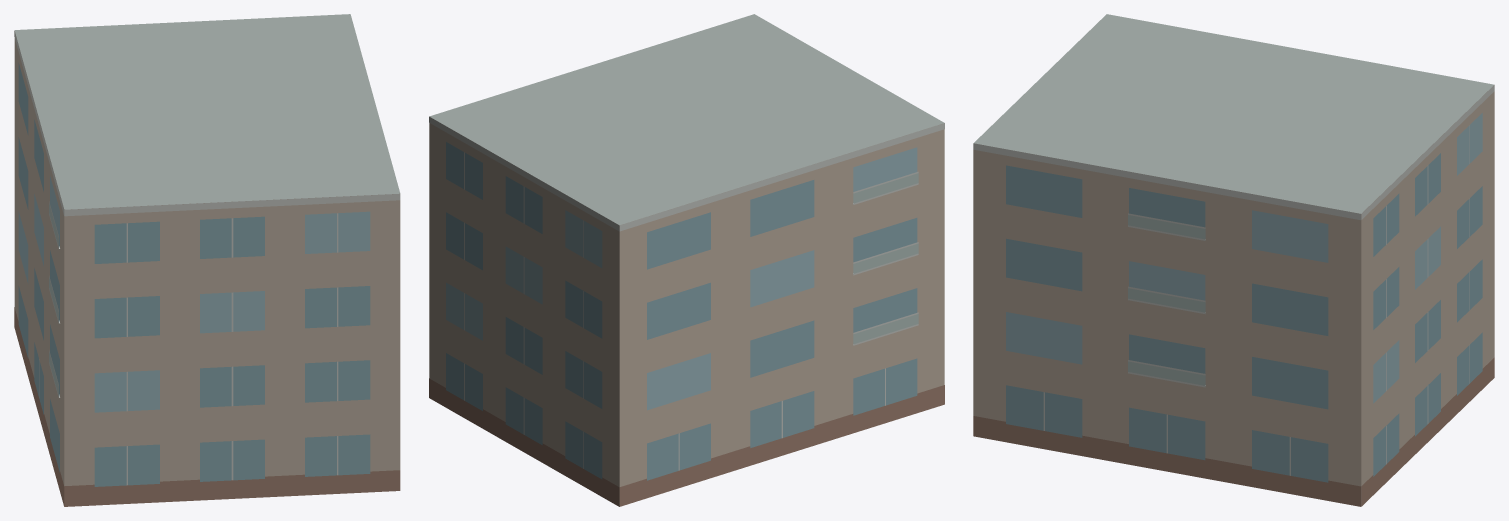
File: survey-upis-32494024.glb
The picture shows the model from 3 angles, left to right: view 1: azimuth 30°, elevation 25°; view 2: azimuth 150°, elevation 25°; view 3: azimuth 270°, elevation 25°; orthographic projection. The views are drawn at different scales.
Parts seen in each view (by area): view 1: survey-upis-32494024.tmp; view 2: survey-upis-32494024.tmp; view 3: survey-upis-32494024.tmp.
Part boxes in pixels (x1,y1,x2,y2): survey-upis-32494024.tmp: (14, 14, 400, 506); survey-upis-32494024.tmp: (429, 14, 944, 506); survey-upis-32494024.tmp: (973, 14, 1494, 506).
Size of the model in its own units: 16.17 by 11.05 by 17.82.
